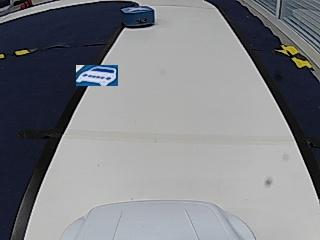prop: (122, 6, 155, 28)
